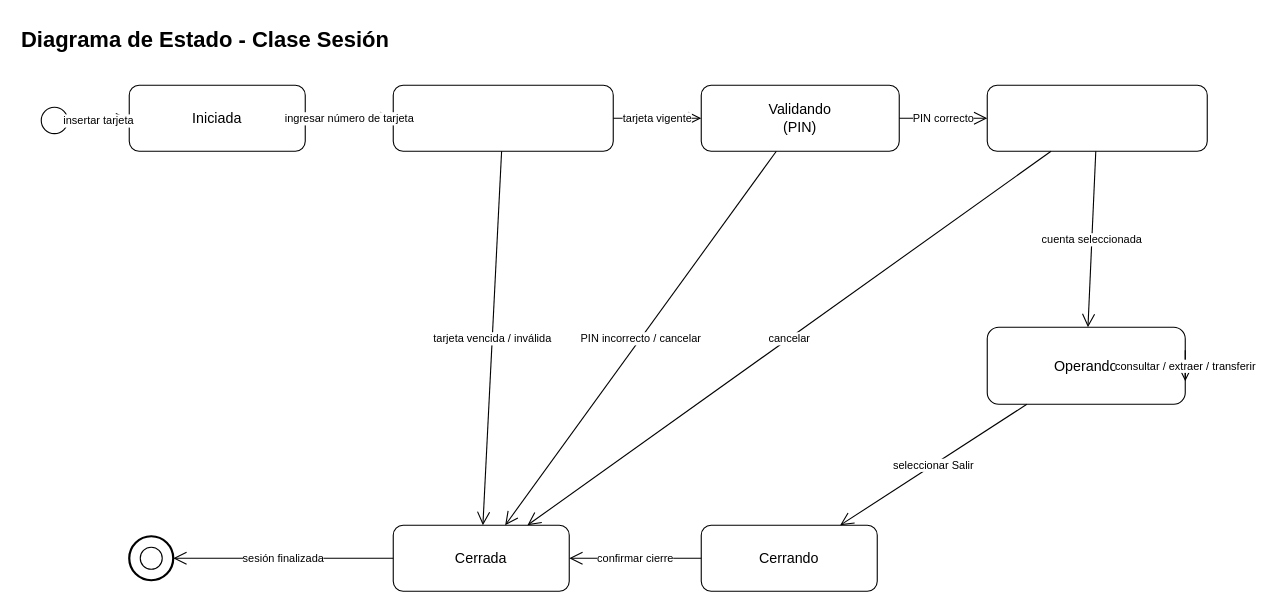
This 1274x611 diagram has some shape labels left out. Here are the shapes that lost their labels. From the top down, the box of each, then its label:
(392, 84, 613, 151): Autenticando (tarjeta)
(986, 84, 1207, 151): Seleccionando cuenta
